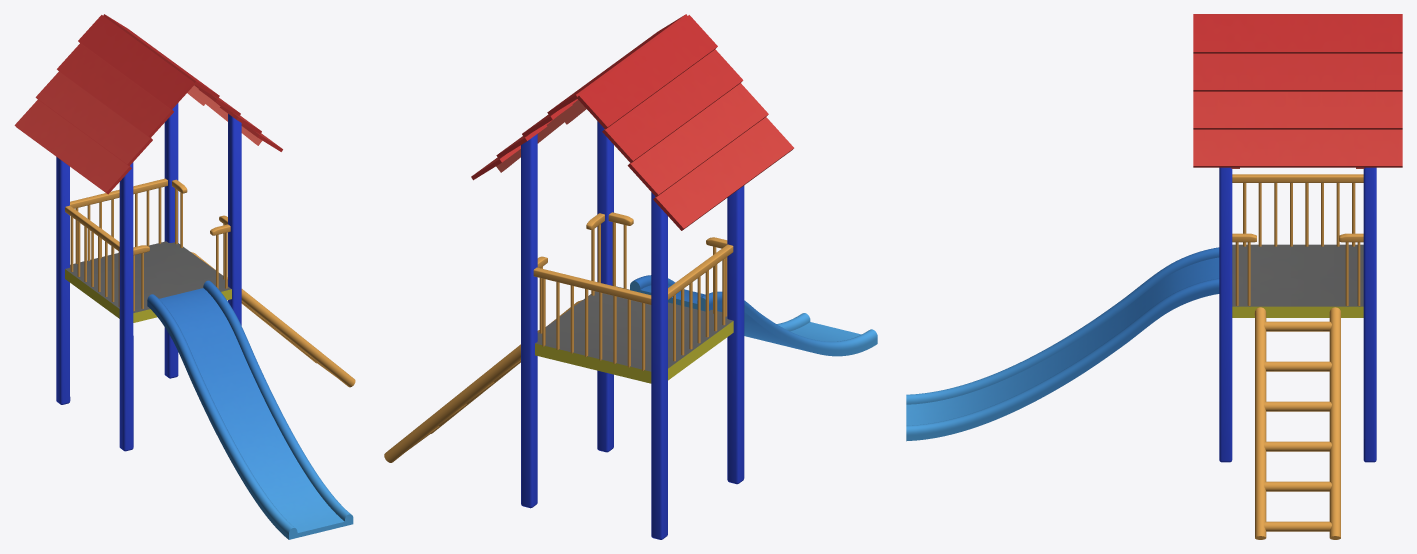
Rendered from slider.glb.
The picture shows the model from 3 angles, left to right: view 1: azimuth 30°, elevation 25°; view 2: azimuth 150°, elevation 25°; view 3: azimuth 270°, elevation 25°; orthographic projection. The views are drawn at different scales.
Parts seen in each view (by area): view 1: Slider; view 2: Slider; view 3: Slider.
Part boxes in pixels (box(x1,y1,x2,y2)): Slider: box(14, 14, 355, 539); Slider: box(384, 14, 877, 539); Slider: box(906, 14, 1402, 539).
Size of the model in its own units: 2.8 by 3.58 by 3.8.
Materials: 1 (1 with a texture image).
